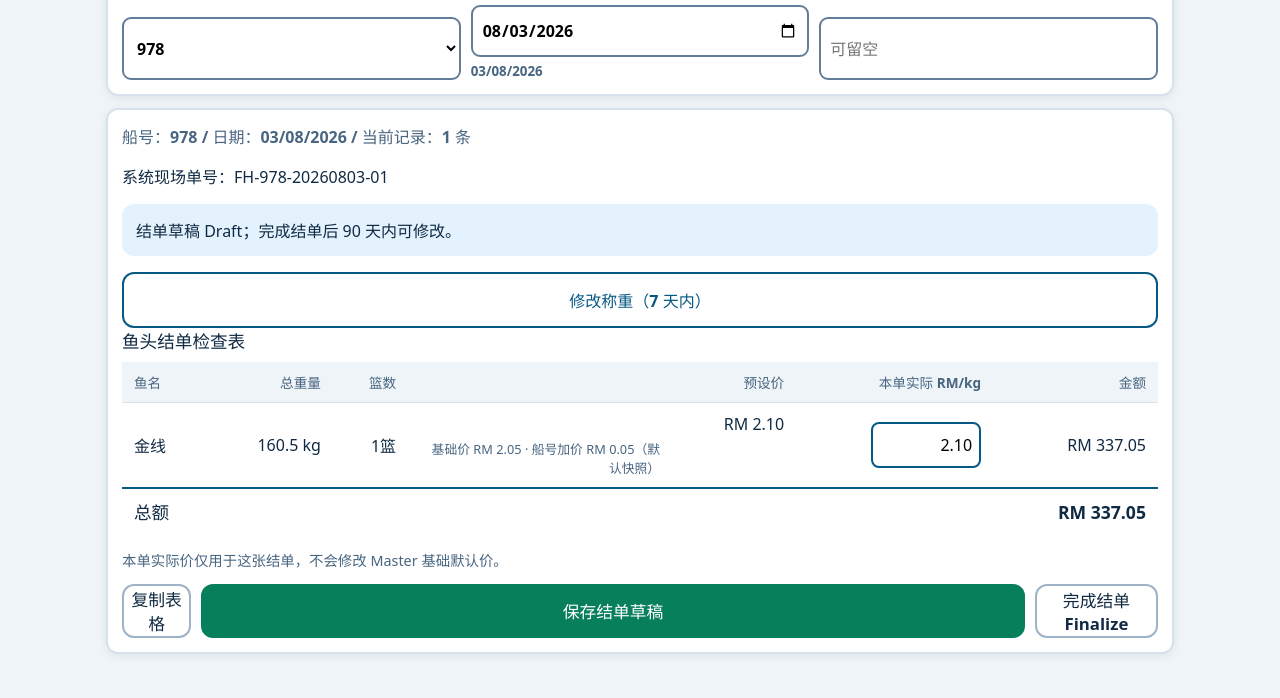
purchase settlement MVP pages › provides exact selectable TSV instead of false success when clipboard is unsupported
(page scrolled)
Expected: the table is shown, [122,328,1158,534]
What coordinates should you click on to do the following:
click the button "复制表格"
I would click on:
 (157, 611)
Its box is [122,584,191,638].
(page scrolled)
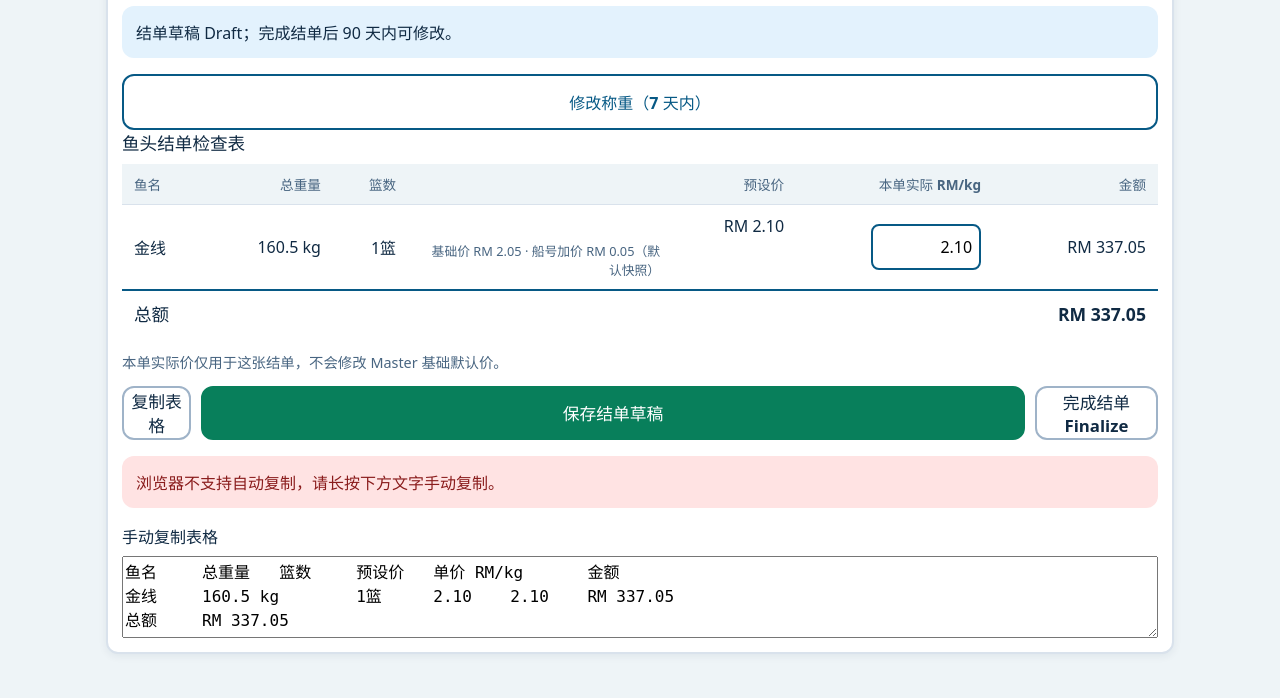
Now the message shows "浏览器不支持自动复制", box [136,472,504,494]
